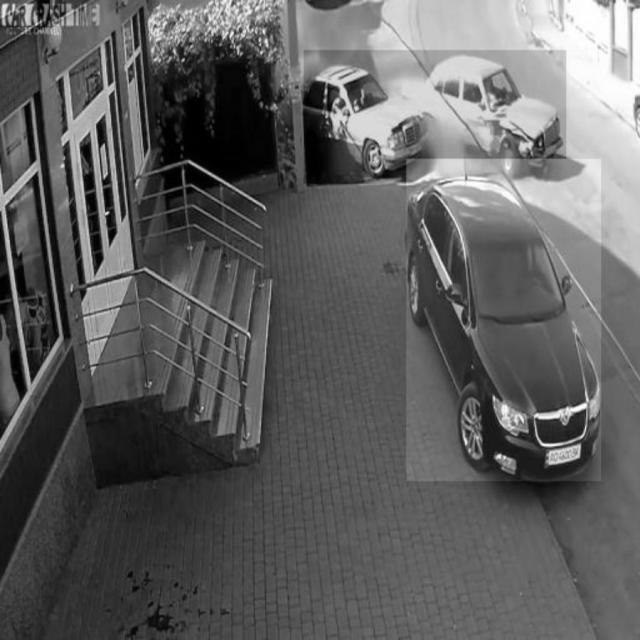accident: (304, 50, 566, 184)
vehicle: (406, 159, 601, 481)
